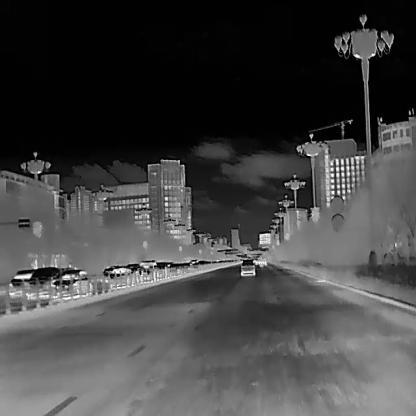car: (27, 266, 61, 296), (9, 268, 37, 298), (50, 269, 89, 290), (126, 263, 150, 279), (102, 265, 131, 278), (141, 259, 157, 278), (240, 259, 255, 276)
